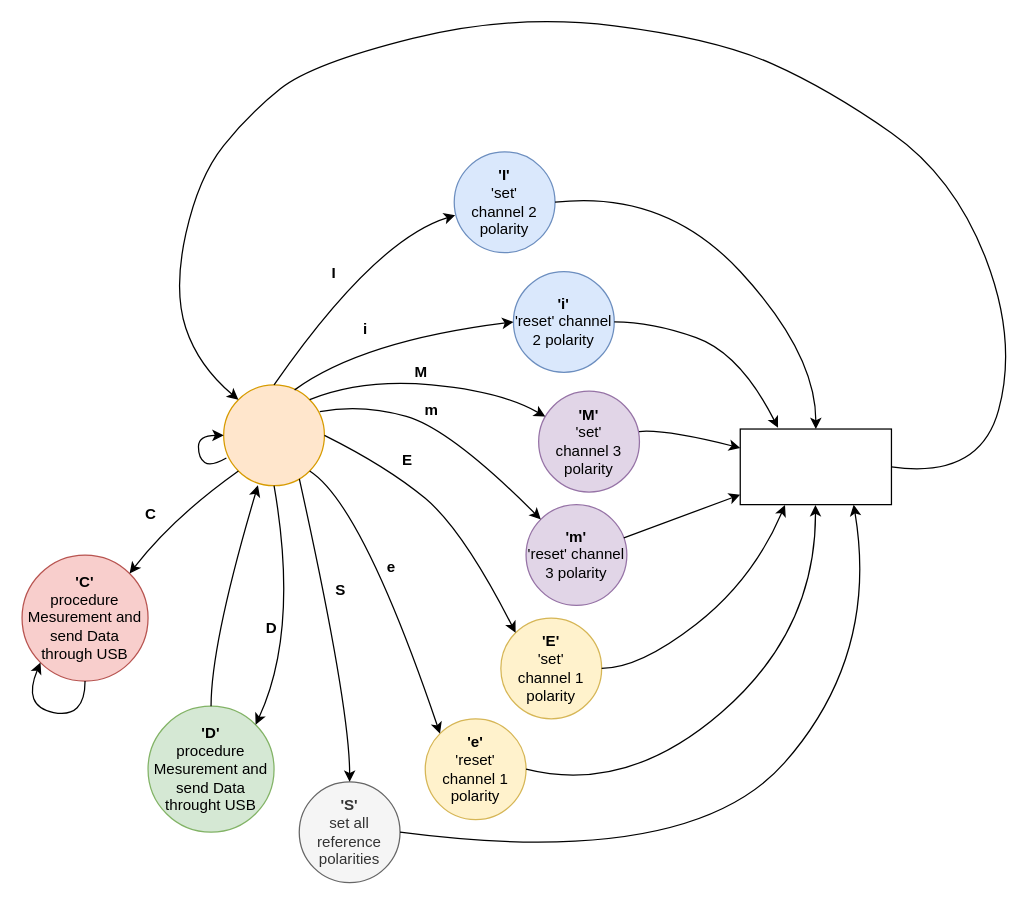
This 1028x906 diagram has some shape labels left out. The box of each missing label's shape, as (x1, y1, x2, y2) in pixels:
IDLE Waits for a command: (222, 384, 324, 486)
Send feedback information: (739, 428, 891, 505)
